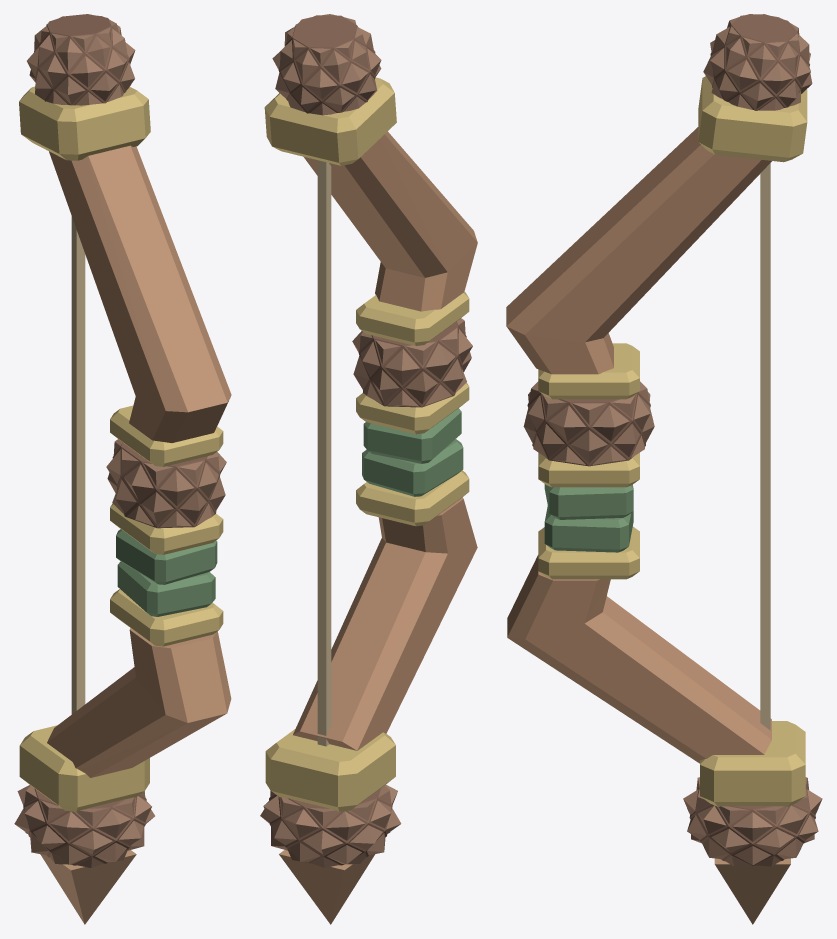
Rendered from acorn_bow_roblox.glb.
The picture shows the model from 3 angles, left to right: view 1: azimuth 30°, elevation 25°; view 2: azimuth 150°, elevation 25°; view 3: azimuth 270°, elevation 25°; orthographic projection.
Parts seen in each view (by area): view 1: Bow, String; view 2: Bow, String; view 3: Bow, String.
Boxes of the visible parts, left/top/right/bottom form: Bow: left=14, top=14, right=231, bottom=924; String: left=71, top=216, right=85, bottom=714; Bow: left=260, top=14, right=477, bottom=924; String: left=317, top=160, right=331, bottom=746; Bow: left=506, top=14, right=822, bottom=924; String: left=760, top=163, right=770, bottom=730.
Bounding box in the file's own units: 0.165 × 1.17 × 0.3739.
